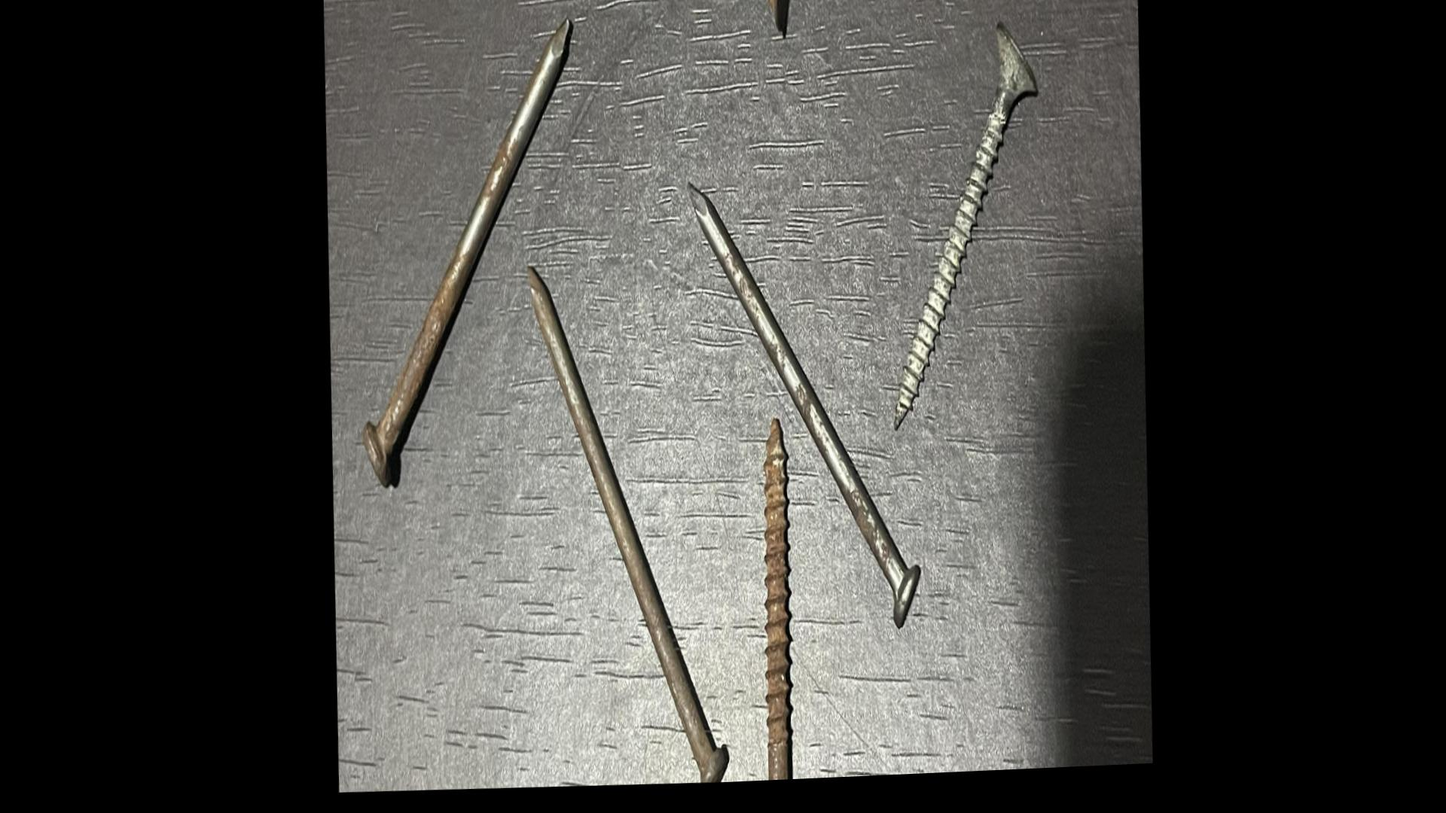nail: (672, 124, 939, 685), (337, 0, 590, 575), (509, 228, 725, 795)
screw: (863, 4, 1053, 455), (725, 414, 809, 788), (648, 0, 824, 44)
